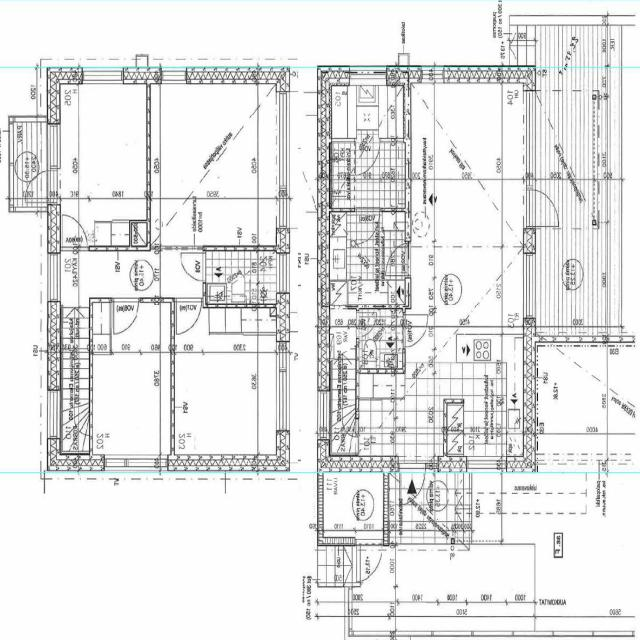door: (524, 190, 562, 229), (399, 456, 426, 510), (356, 537, 382, 581), (25, 170, 60, 202), (62, 208, 88, 250), (176, 298, 202, 338), (381, 242, 411, 276), (114, 298, 139, 338), (356, 208, 379, 245), (357, 138, 380, 174), (403, 316, 427, 347), (183, 252, 205, 281), (356, 311, 377, 337)
